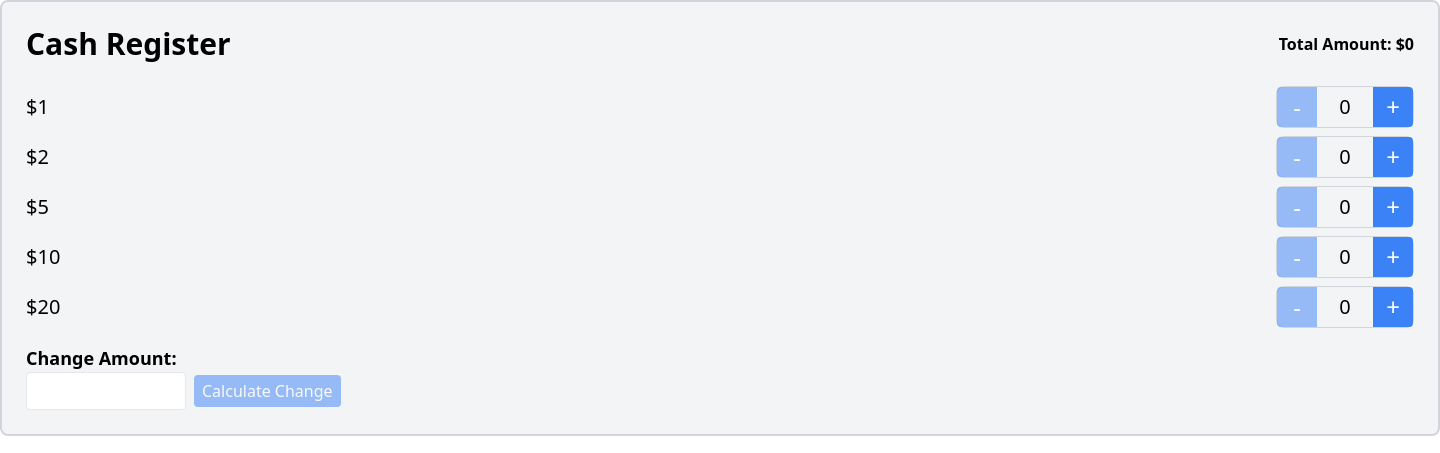
Scenario: [Component]: CashRegister › updates the total amount when adding money
The image size is (1440, 453).
Click the button with test id "add-money-20" at [1393, 307], box [1373, 287, 1413, 327]
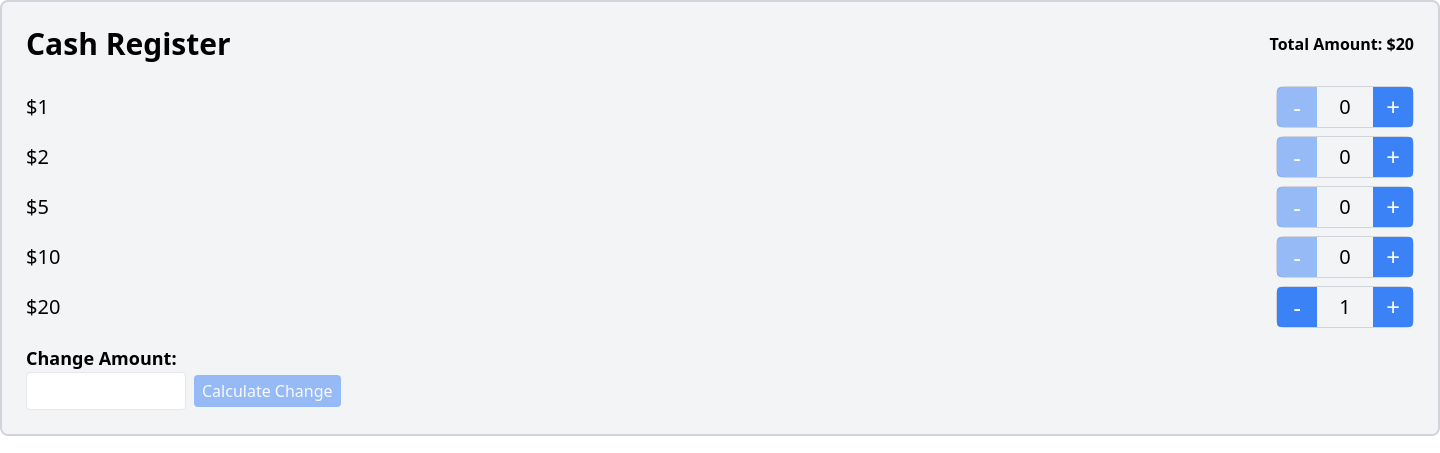
Click the button with test id "add-money-20" at [1393, 307], box [1373, 287, 1413, 327]
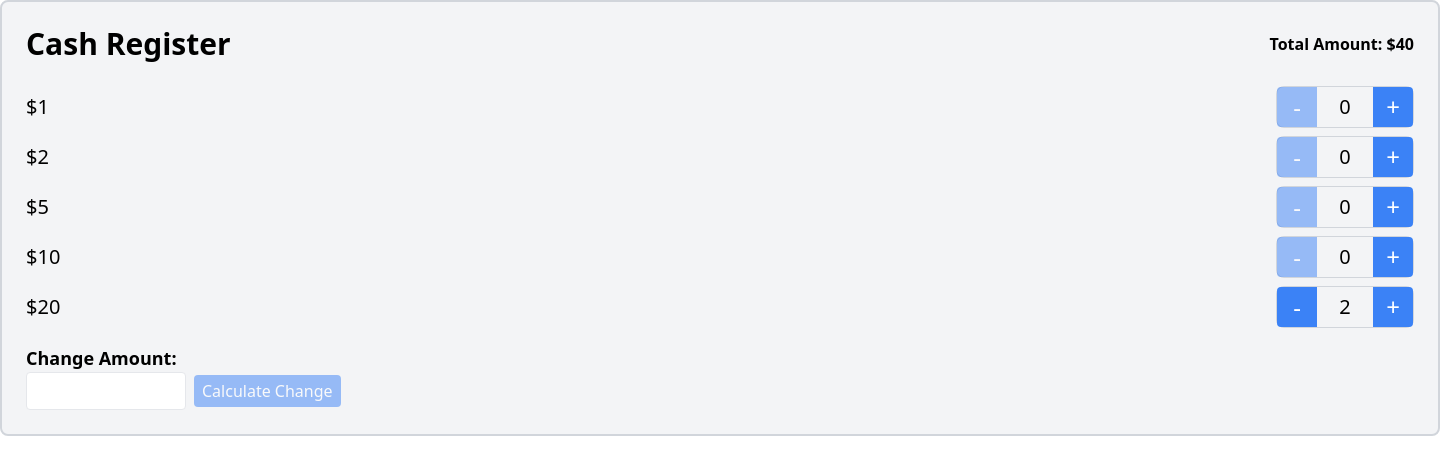
Check: the element with test id "total-amount-text" shows "$40", box [1270, 32, 1414, 56]
